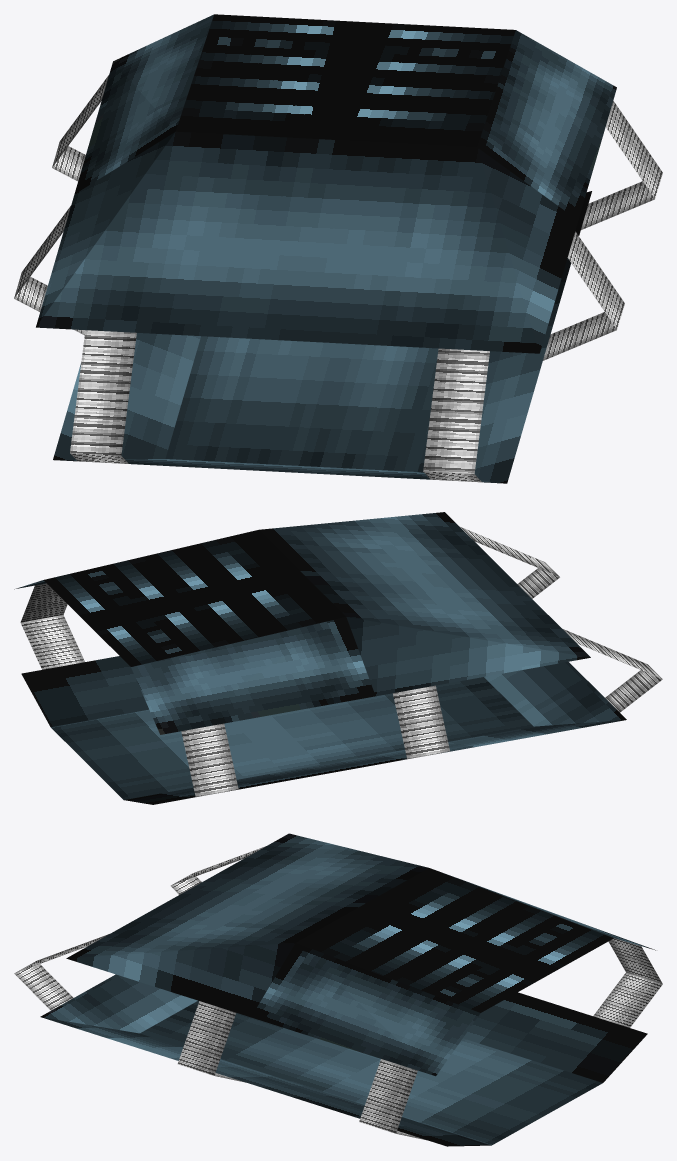
Rendered from primary_072.glb.
3 views of the same model, one above another, from view 1: azimuth 30°, elevation 25°; view 2: azimuth 150°, elevation 25°; view 3: azimuth 270°, elevation 25° (orthographic). The views are drawn at different scales.
Visible parts, largest first — view 1: Object; view 2: Object; view 3: Object.
Boxes of the visible parts, left/top/right/bottom form: Object: left=14, top=14, right=662, bottom=483; Object: left=14, top=512, right=662, bottom=804; Object: left=14, top=833, right=662, bottom=1146.
Bounding box in the file's own units: 0.7457 × 0.2002 × 0.7844.
Materials: 3 (3 with a texture image).
